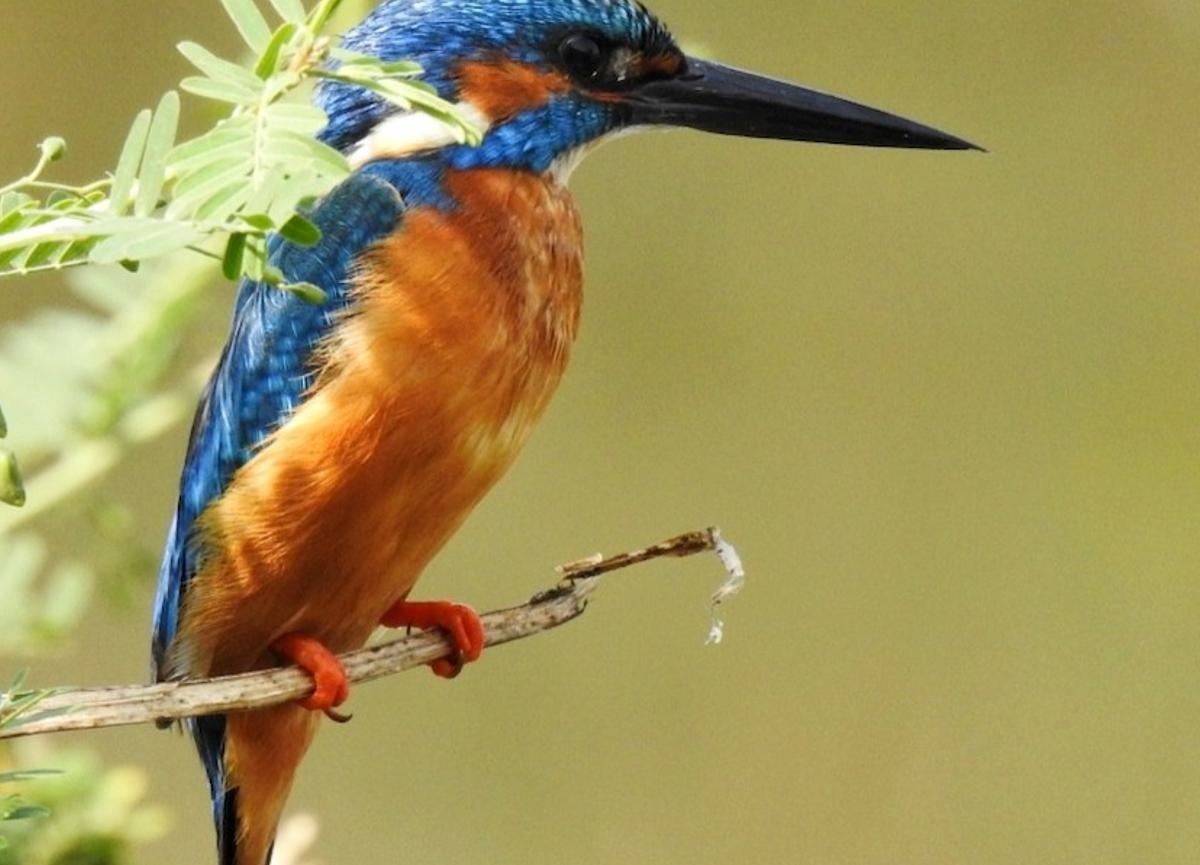kingfisher: (79, 4, 986, 862)
